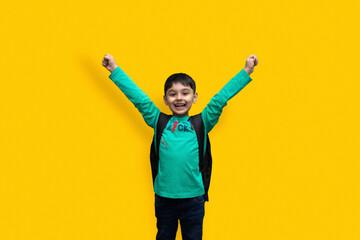Human: (95, 44, 263, 240)
